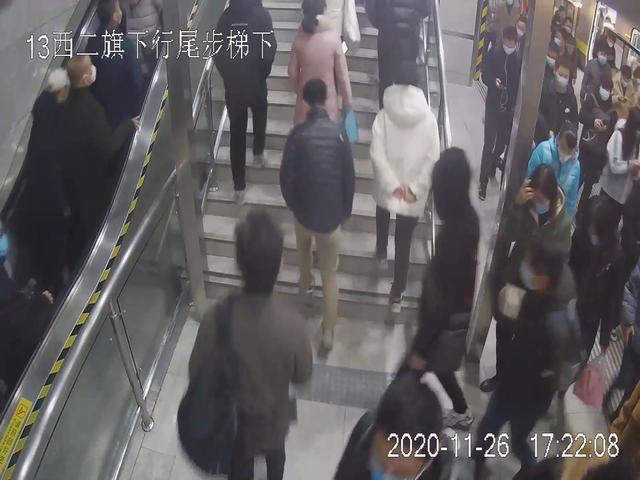person: (173, 212, 312, 480), (279, 78, 352, 353), (359, 73, 436, 317), (206, 1, 276, 201), (477, 26, 525, 204)
